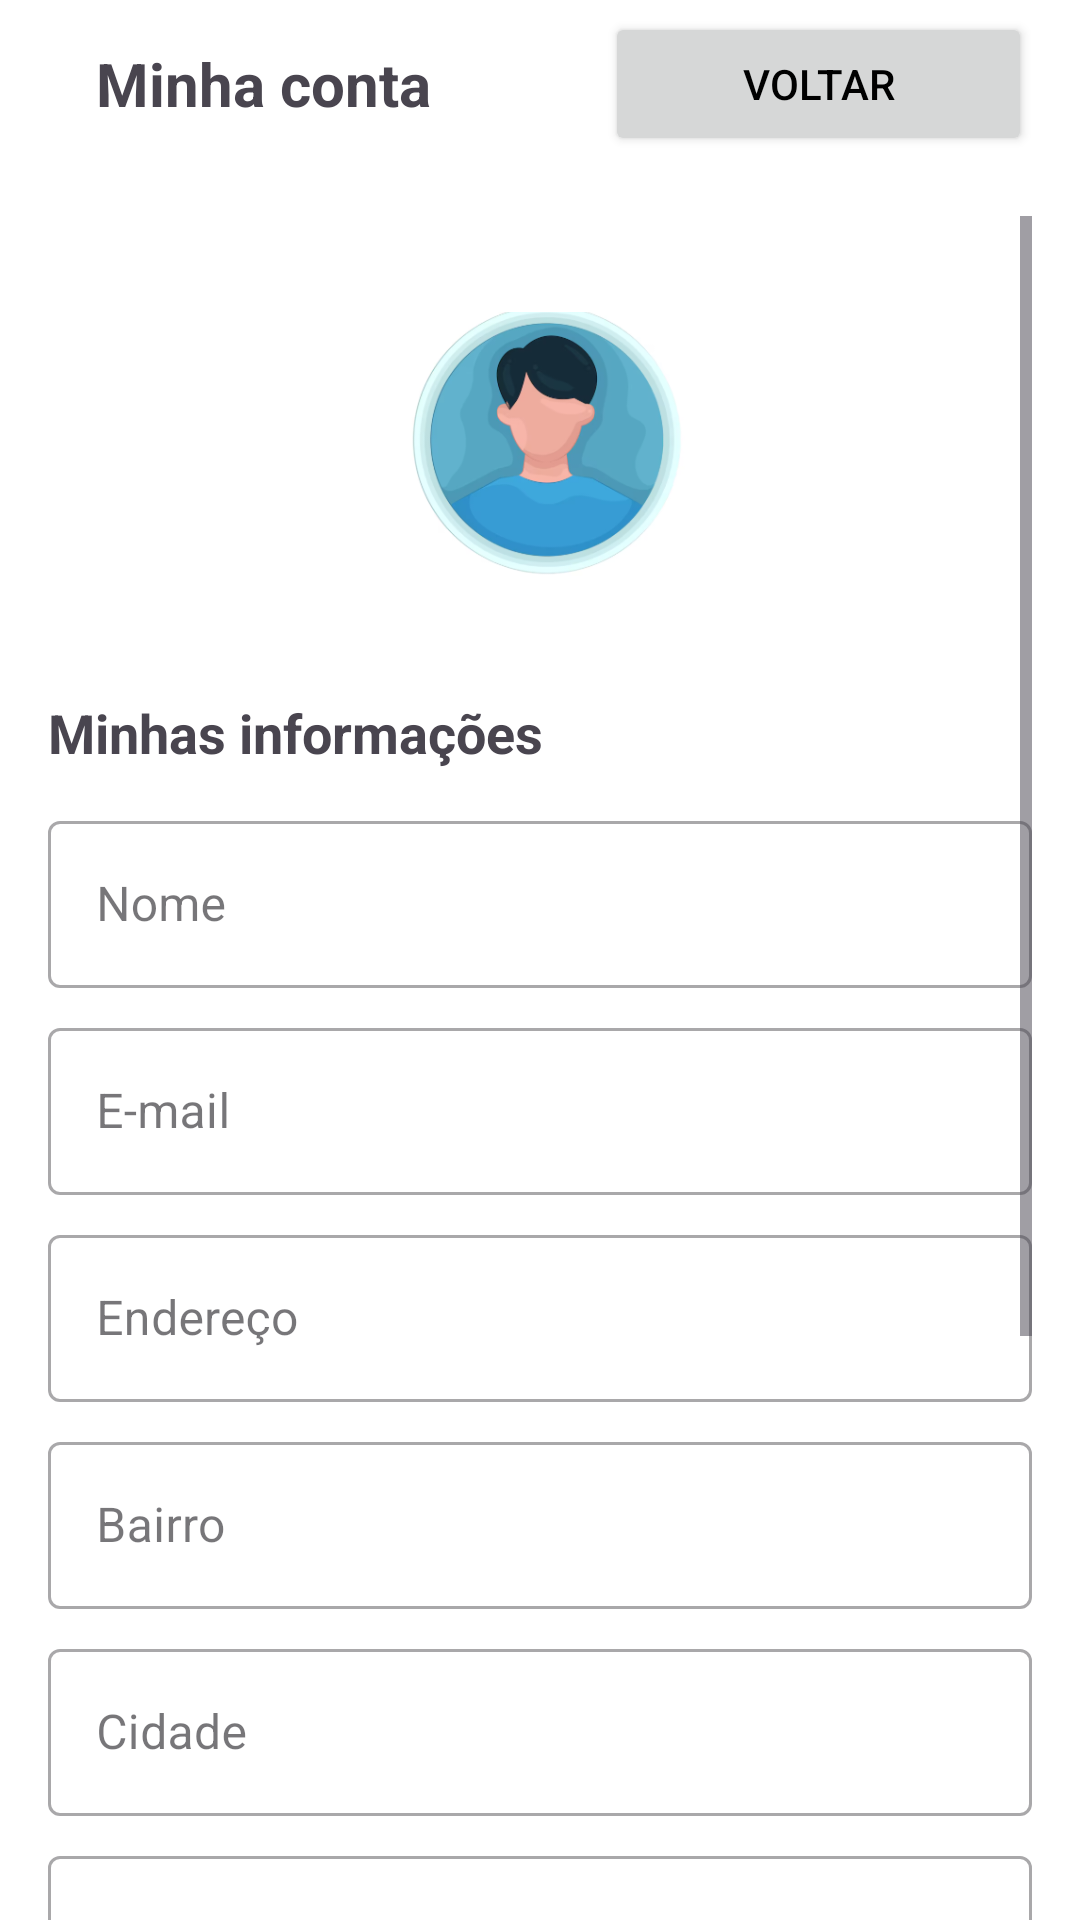

Where to tap for icons on this 1080px x 1920px app screen, as point (x, y):
Foto de perfil: point (546, 443)
